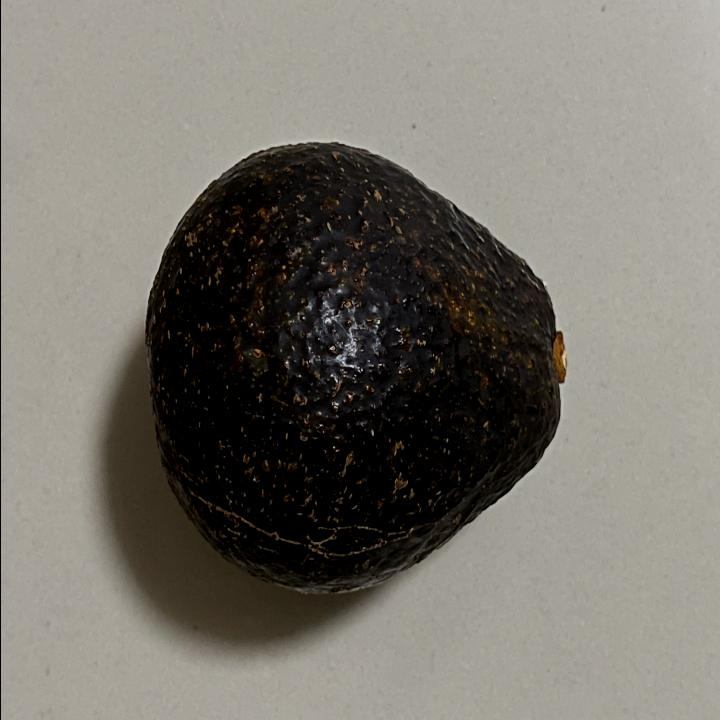Level2: (138, 135, 574, 606)
